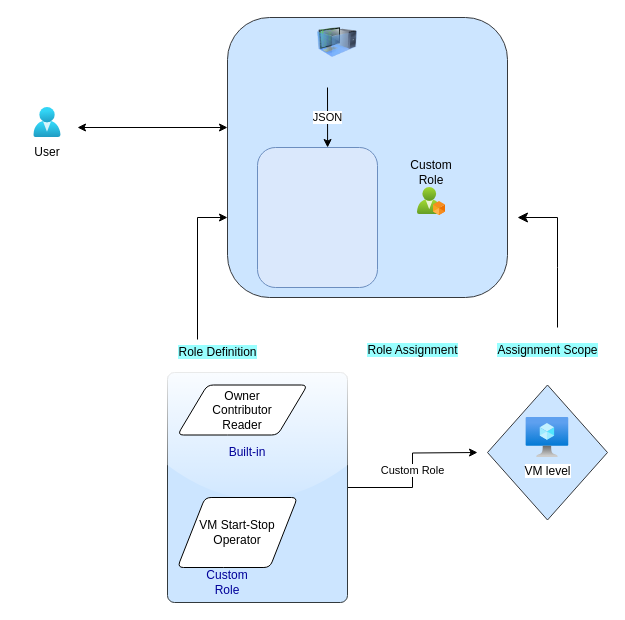
Some shapes in this 625 by 620 pixel diagram are drawn without their labels. The centre of each missing label's shape, as x and y in pixels:
"Actions": [ "VM/start", VM/stop" ] "NotActions": [ "VM/delete" ]: the point at 317,217
Virtual Machine: the point at 337,42
